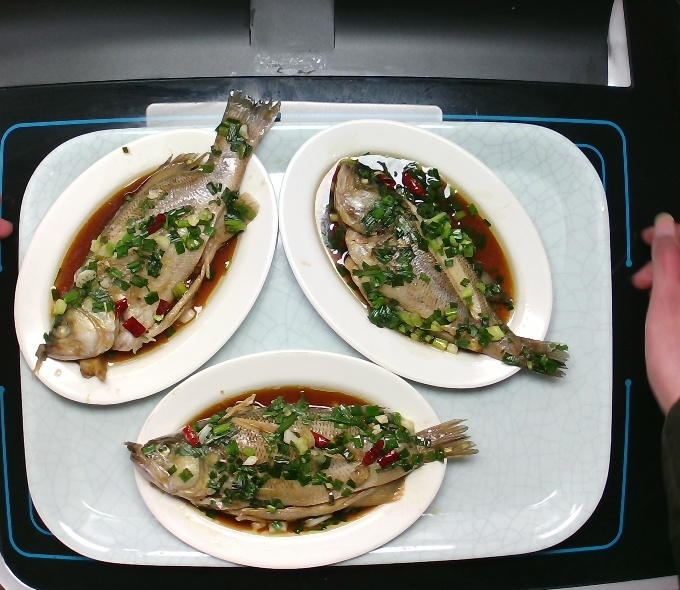wcq-LuYu: (33, 82, 286, 387), (323, 149, 577, 384), (118, 389, 486, 537)
